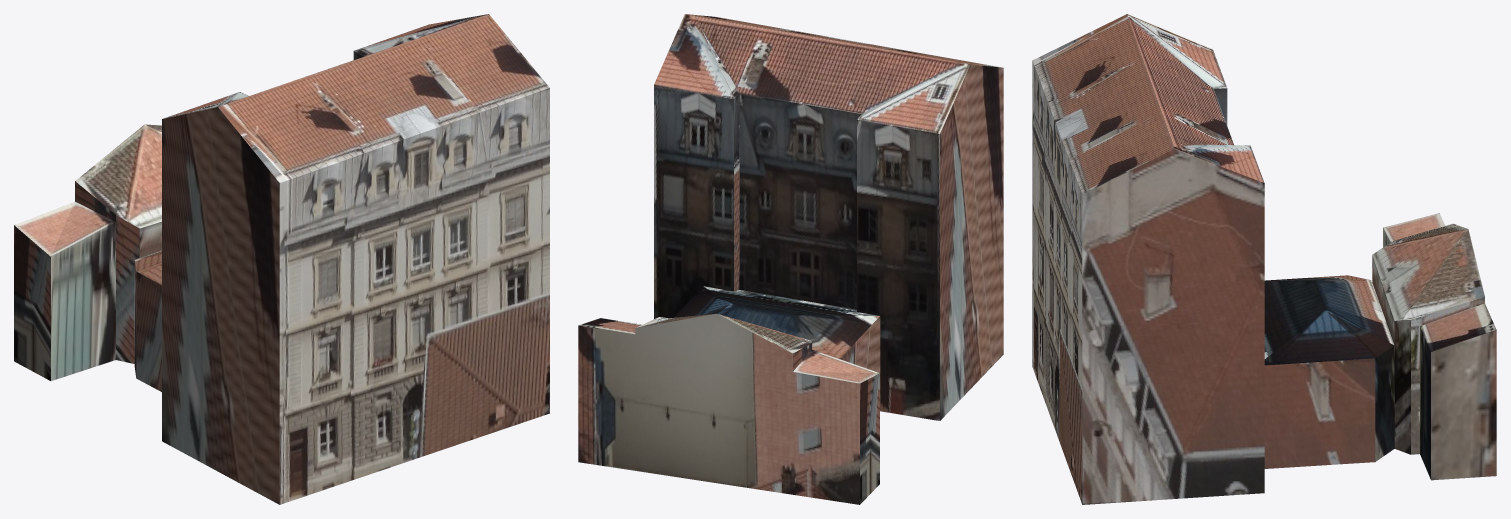
The picture shows the model from 3 angles, left to right: view 1: azimuth 30°, elevation 25°; view 2: azimuth 150°, elevation 25°; view 3: azimuth 270°, elevation 25°; orthographic projection. The views are drawn at different scales.
Visible parts, largest first — view 1: Z_UP; view 2: Z_UP; view 3: Z_UP.
Part boxes in pixels (left/top/right/bottom): Z_UP: left=14, top=14, right=549, bottom=504; Z_UP: left=578, top=14, right=1003, bottom=504; Z_UP: left=1032, top=14, right=1496, bottom=504.
Bounding box in the file's own units: 21.06 × 21.21 × 25.48.
Materials: 2 (1 with a texture image).
